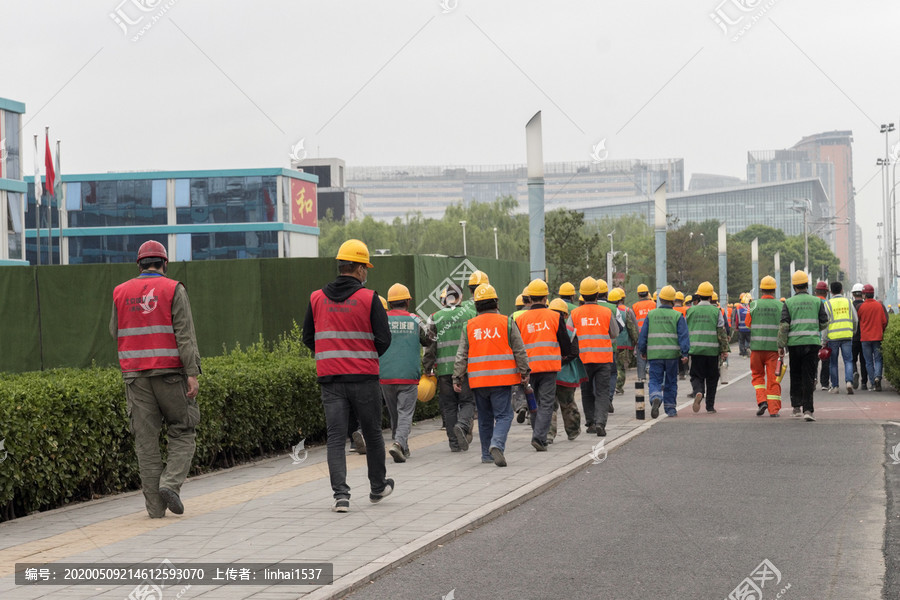safetyhat: (105, 229, 217, 524), (292, 213, 388, 517), (459, 281, 519, 463), (783, 266, 828, 424), (635, 279, 686, 413), (688, 277, 729, 410)
